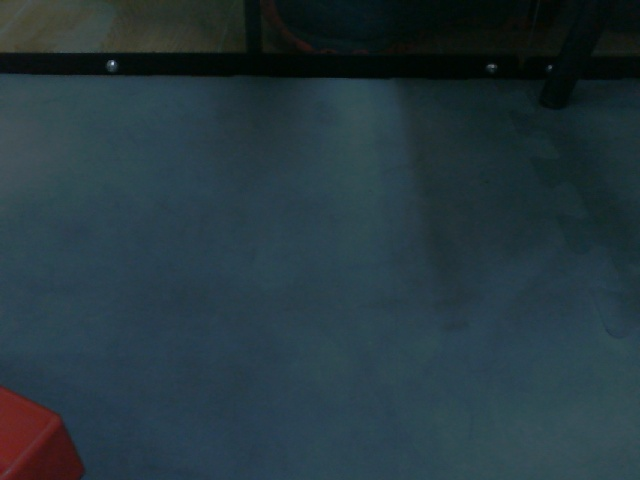RedSample: (1, 380, 89, 479)
